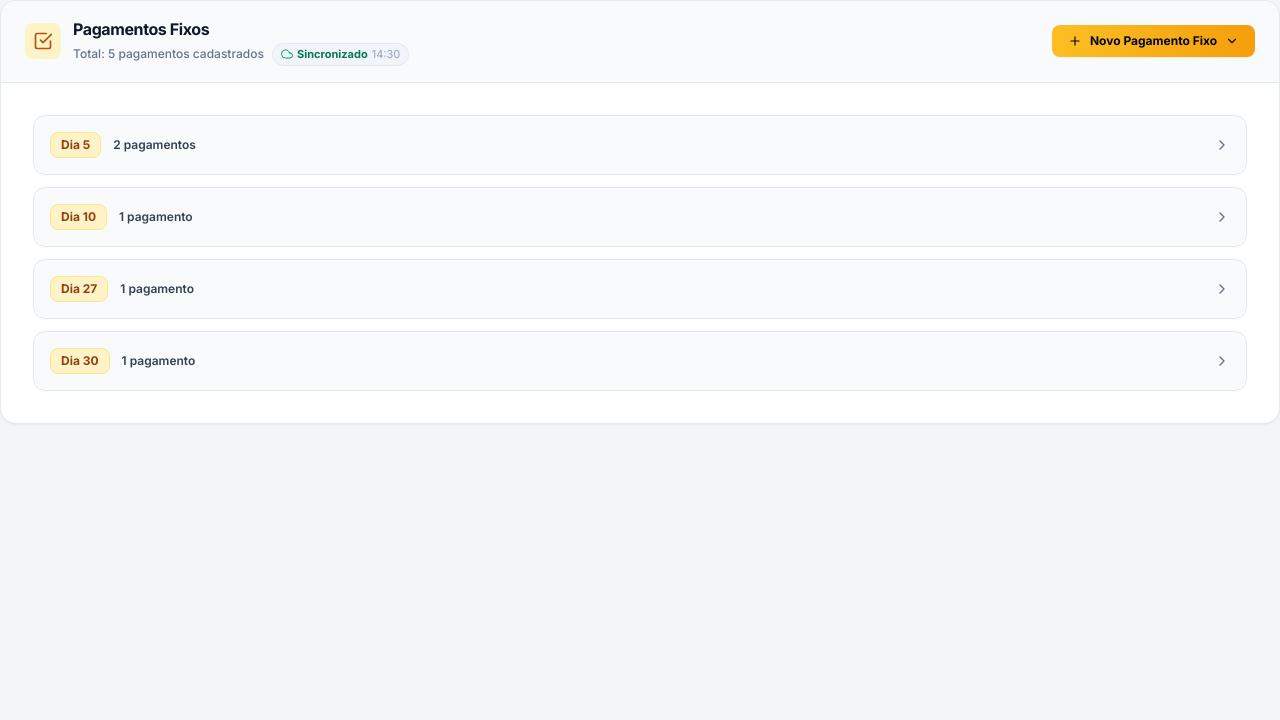
Test: Pagamentos fixos — editar (exige senha de admin) › pagamento com data específica abre com o campo de data preenchido
The width and height of the screenshot is (1280, 720).
Click the button "Dia 27 1 pagamento": (79, 288) x1=34 y1=260 x2=1246 y2=318
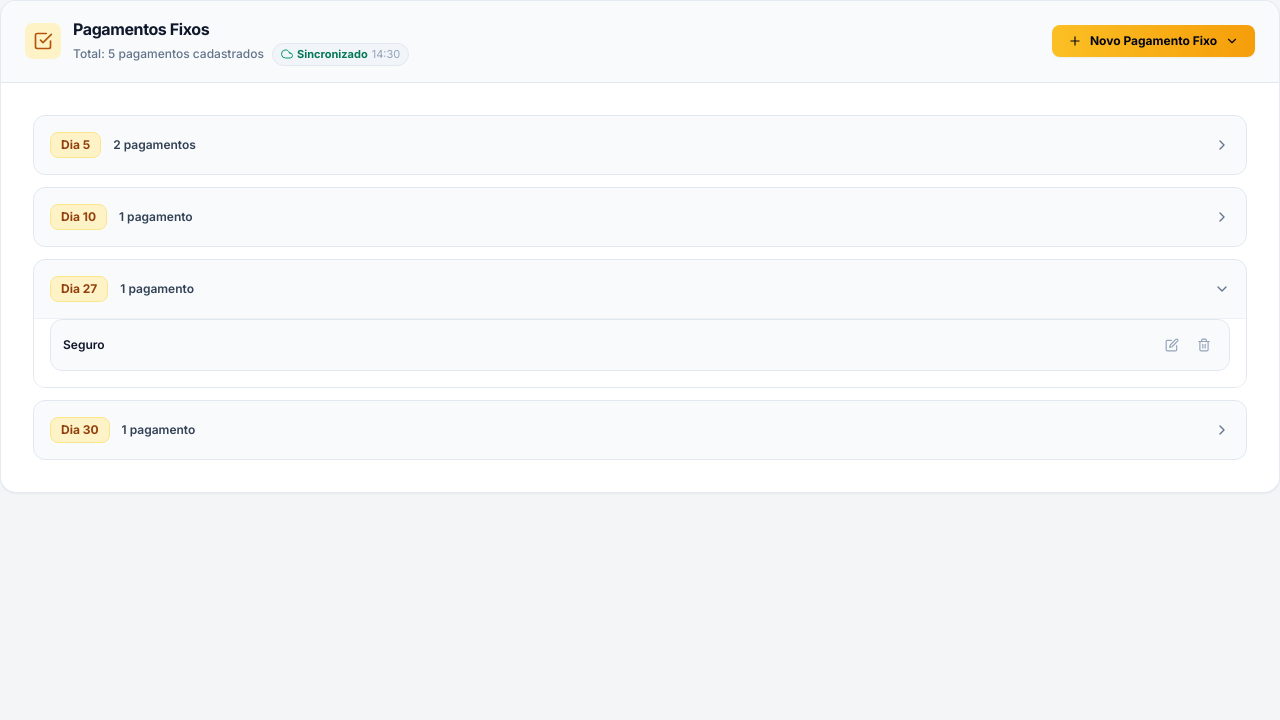
Click the button titled "Editar": (1172, 344) x1=1159 y1=332 x2=1185 y2=358
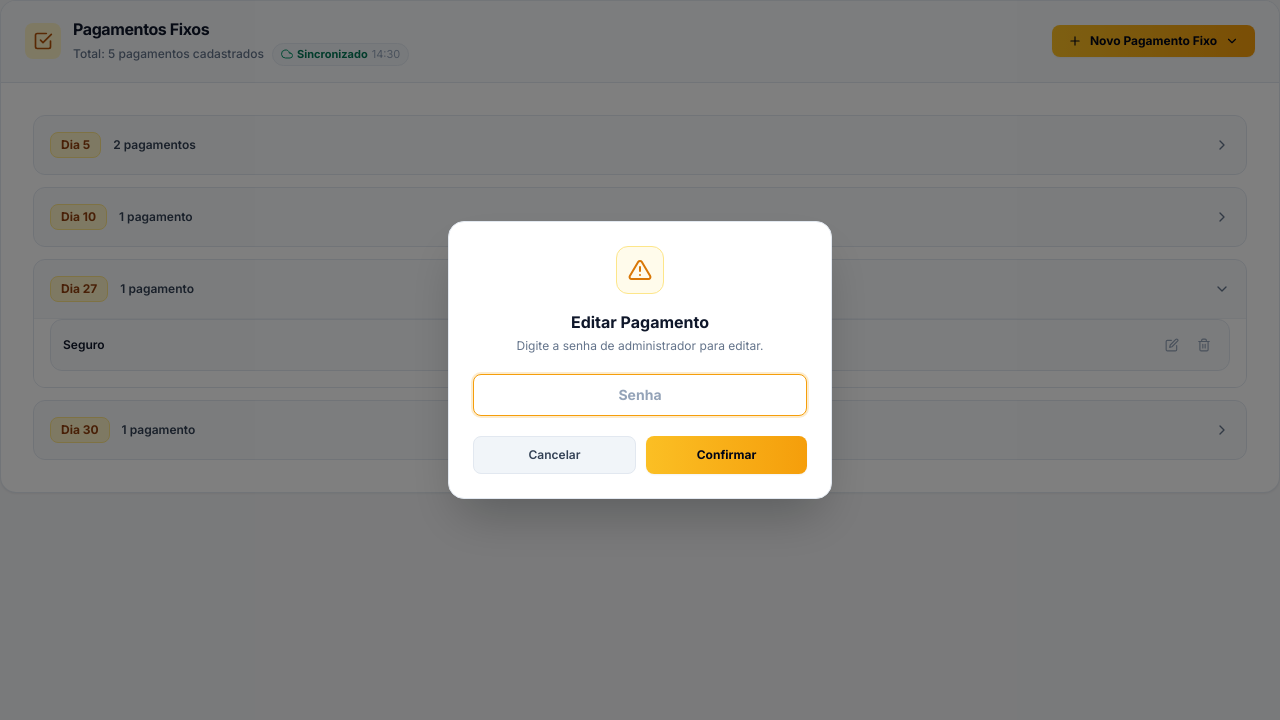
In the password field with placeholder "Senha": (640, 395) x1=473 y1=374 x2=807 y2=416, type "certa"
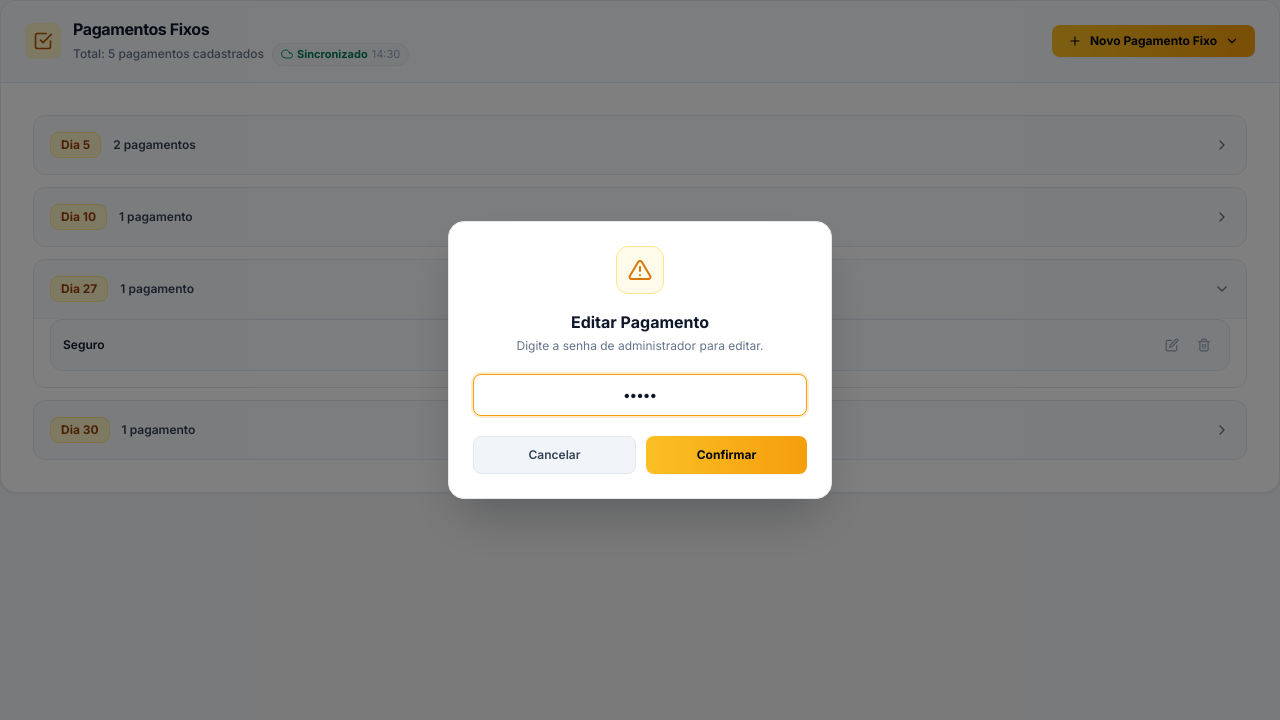
Click the button "Confirmar": (726, 455) x1=646 y1=436 x2=807 y2=474
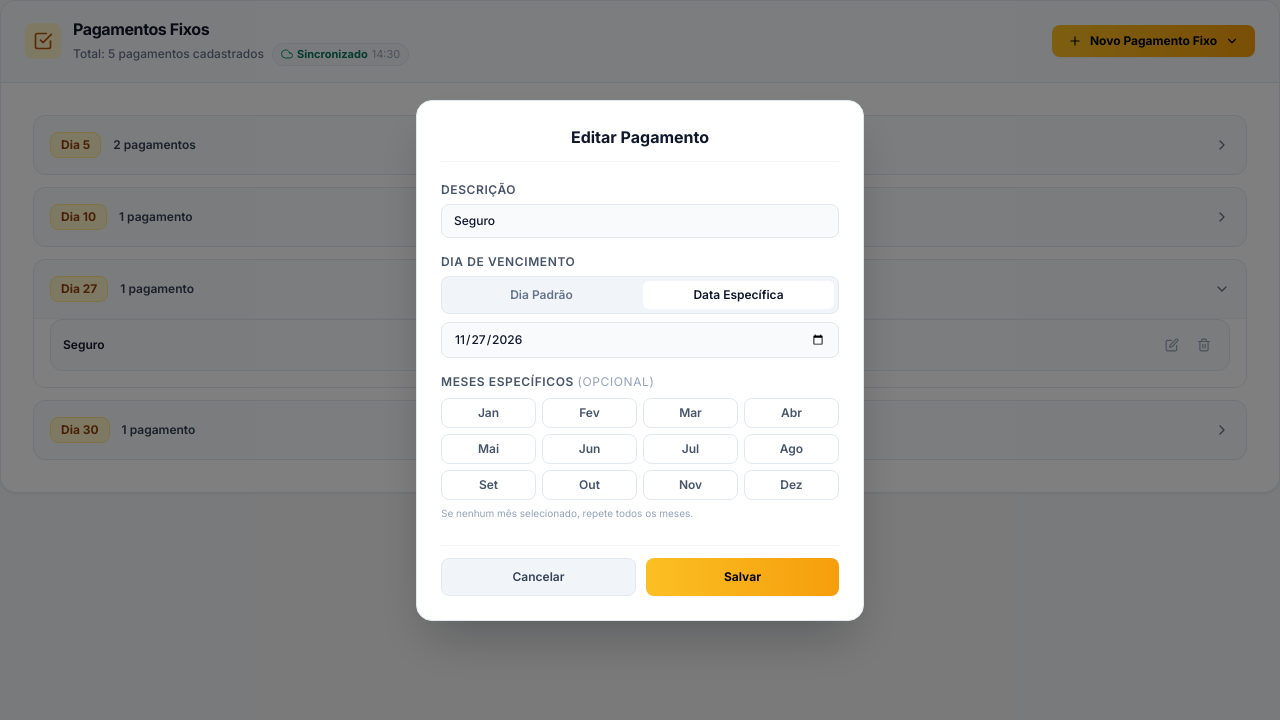
Check: the heading "Editar Pagamento" is shown, box x1=441 y1=124 x2=839 y2=162
Check: the date field holds "2026-11-27", box x1=441 y1=322 x2=839 y2=358
